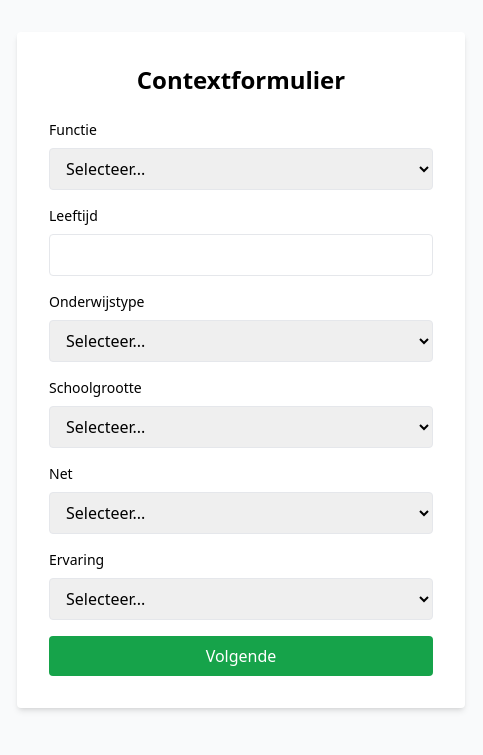
Test: ContextForm › toont foutmelding bij lege submit
Click the button. click: coordinates (241, 656)
box: top-left (49, 636), bottom-right (433, 676)
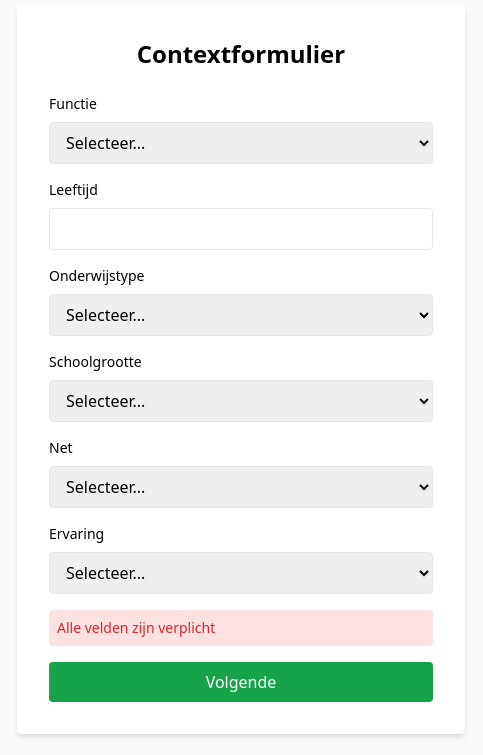
Check: the text "Alle velden zijn verplicht" is shown, box top-left (49, 610), bottom-right (433, 646)
